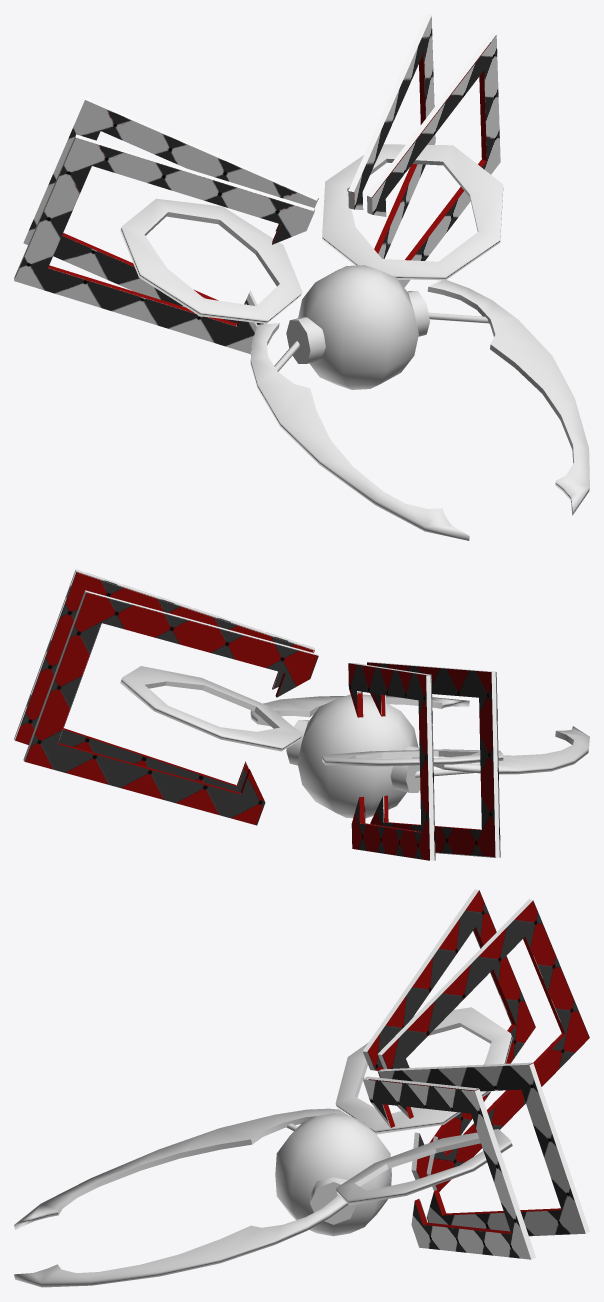
The model's file is Emey B.fbx.
3 renders of one model, top to bottom at view 1: azimuth 30°, elevation 25°; view 2: azimuth 150°, elevation 25°; view 3: azimuth 270°, elevation 25°, orthographic. The views are drawn at different scales.
Parts seen in each view (by area): view 1: WingRight, WingLeft, Eyeball, RingLeft, HandRight, RingRight, HandLeft; view 2: WingLeft, WingRight, Eyeball, RingLeft, HandRight, RingRight, HandLeft; view 3: WingRight, WingLeft, Eyeball, HandLeft, HandRight, RingRight, RingLeft.
Boxes of the visible parts, x1,y1,x2,y2 form: WingRight: (14,97,318,354); WingLeft: (348,14,500,287); Eyeball: (298,265,418,389); RingLeft: (322,144,503,280); HandRight: (250,317,469,540); RingRight: (120,198,302,323); HandLeft: (407,280,589,515); WingLeft: (14,569,318,825); WingRight: (348,662,500,860); Eyeball: (297,694,418,818); RingLeft: (120,666,302,751); HandRight: (390,726,589,792); RingRight: (322,749,503,766); HandLeft: (250,695,469,765); WingRight: (362,889,589,1191); WingLeft: (362,1062,589,1259); Eyeball: (275,1113,391,1236); HandLeft: (14,1177,356,1287); HandRight: (14,1108,347,1229); RingRight: (335,1007,512,1134); RingLeft: (335,1129,512,1205).
Bounding box in the file's own units: 186 × 102 × 195.
Materials: 4 (2 with a texture image).
